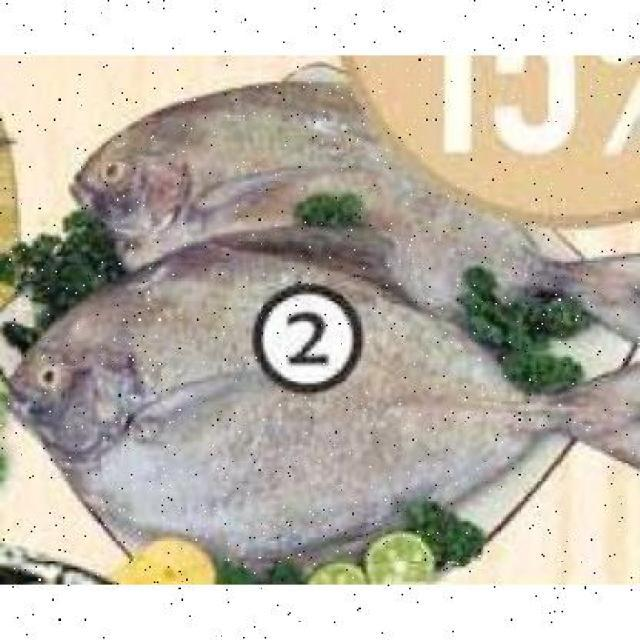ikan-pacu: (9, 247, 582, 556), (70, 83, 635, 332)
